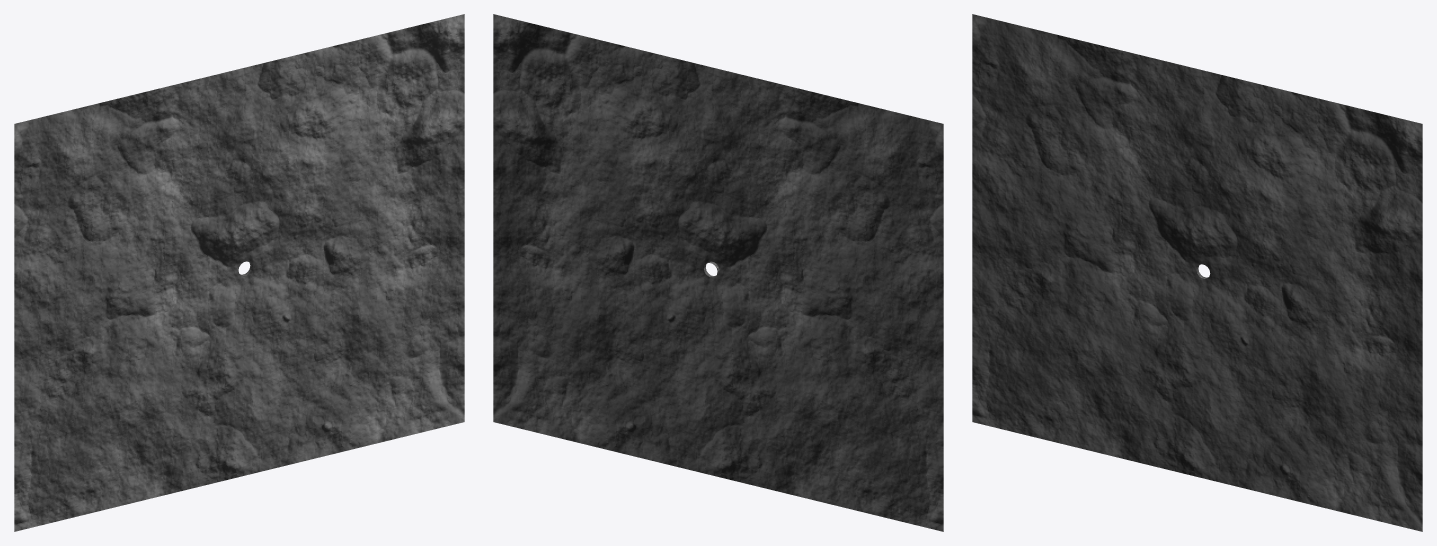
Rendered from PuertaRedonda.FBX.
3 renders of one model, left to right at view 1: azimuth 30°, elevation 25°; view 2: azimuth 150°, elevation 25°; view 3: azimuth 330°, elevation 25°, orthographic.
Parts seen in each view (by area): view 1: GrupoPuertaRedonda; view 2: GrupoPuertaRedonda; view 3: GrupoPuertaRedonda.
Part boxes in pixels (x1,y1,x2,y2): GrupoPuertaRedonda: (14,14,464,531); GrupoPuertaRedonda: (493,14,943,531); GrupoPuertaRedonda: (972,14,1422,531).
Size of the model in its own units: 94.07 by 0.7 by 81.39.
